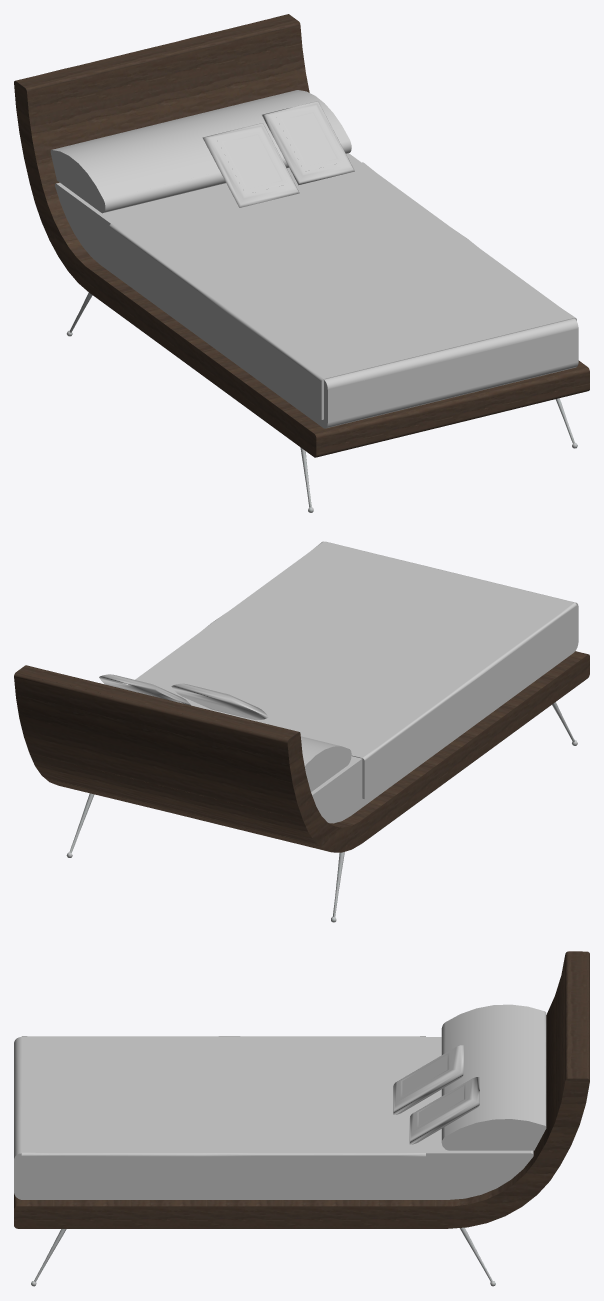
File: bed.gltf
The picture shows the model from 3 angles, top to bottom: view 1: azimuth 30°, elevation 25°; view 2: azimuth 150°, elevation 25°; view 3: azimuth 270°, elevation 25°; orthographic projection. The views are drawn at different scales.
Visible parts, largest first — view 1: body; view 2: body; view 3: body.
Part boxes in pixels (bbox=[...]): body: bbox=[14, 14, 589, 512]; body: bbox=[14, 541, 589, 922]; body: bbox=[14, 951, 589, 1286].
Bounding box in the file's own units: 1.07 × 0.8244 × 2.05.
5 materials, 2 textured.
